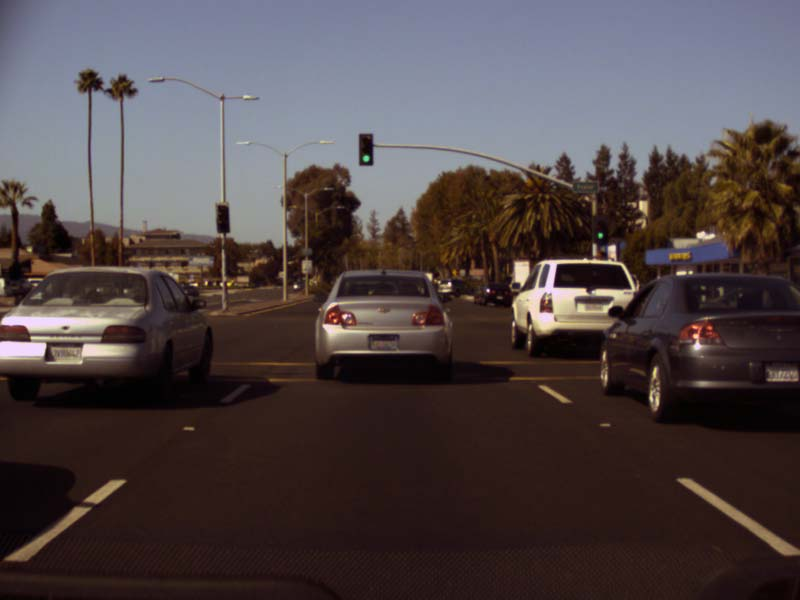Green: (359, 133, 372, 164), (593, 216, 607, 243)
